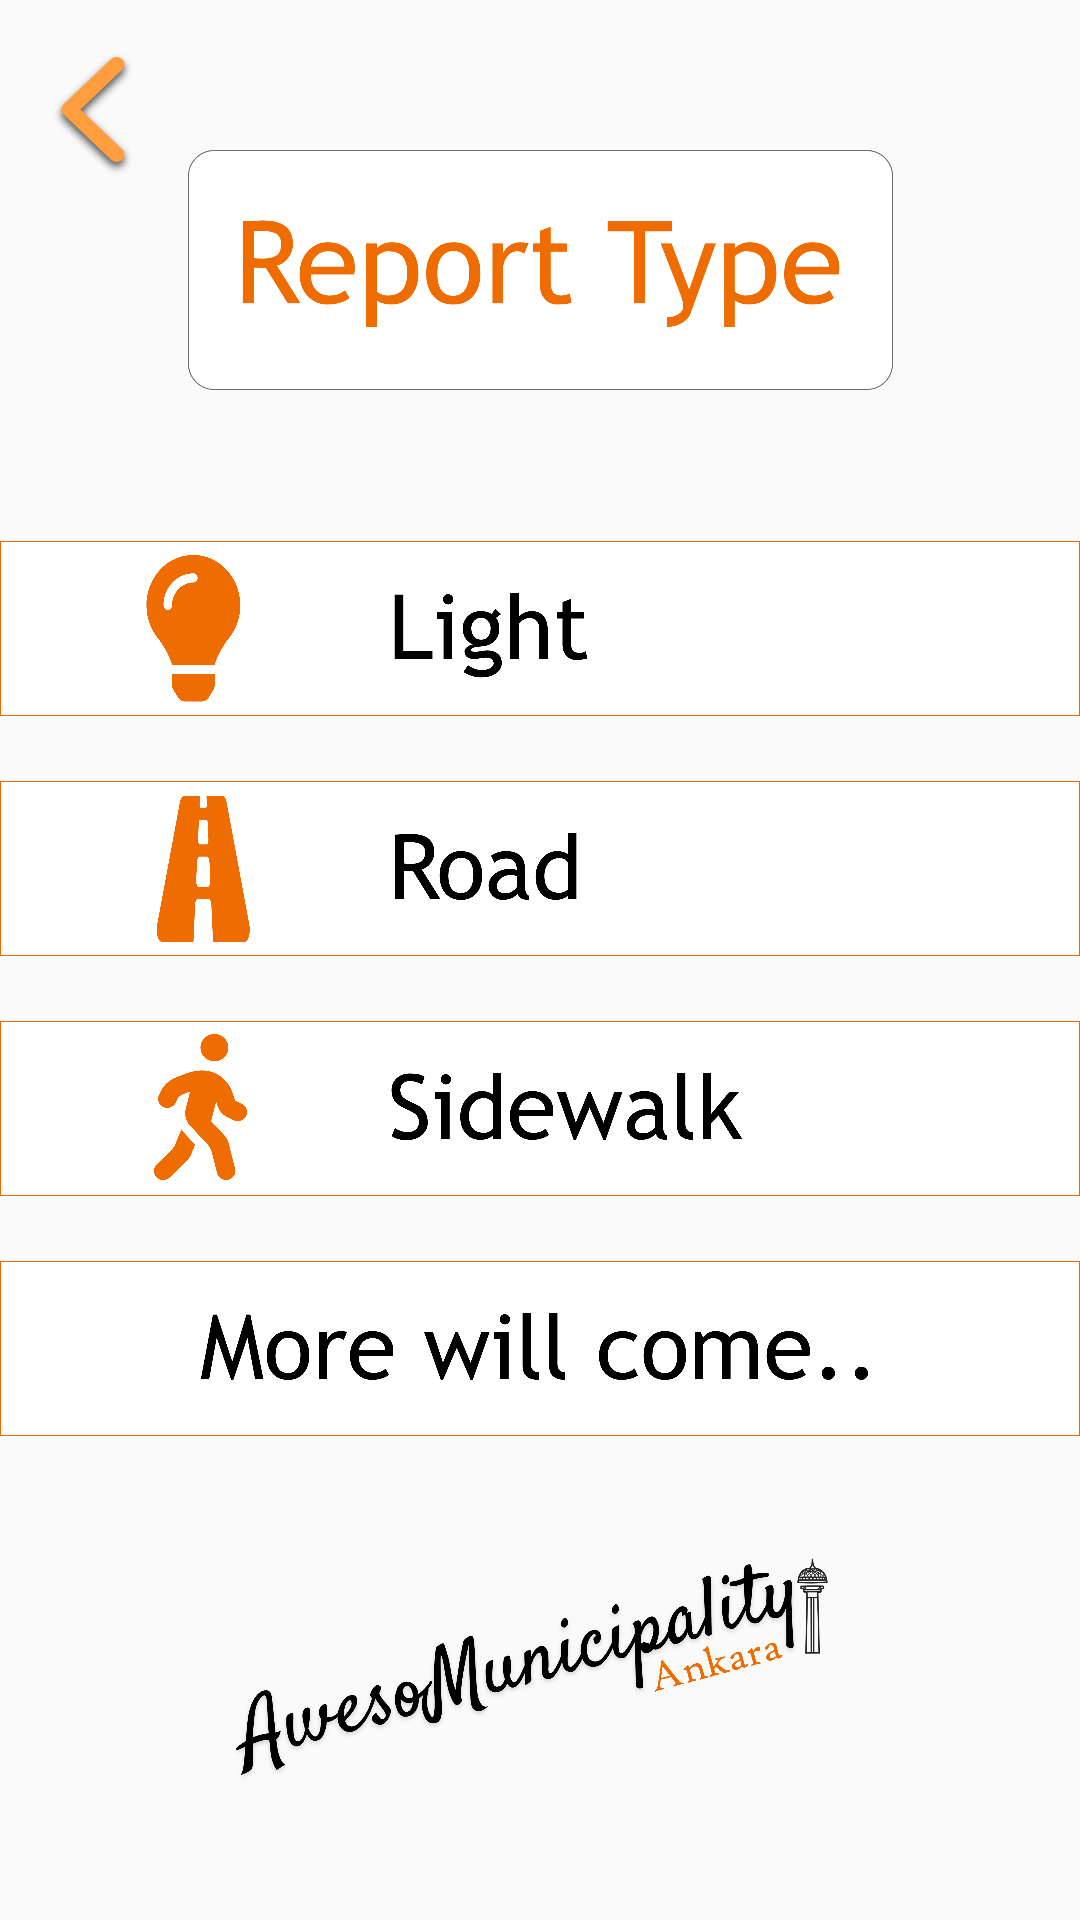

Where icons sit on this 1080px×1920px app screen, as (x1, y1, x2, y2):
back: (58, 57, 128, 170)
